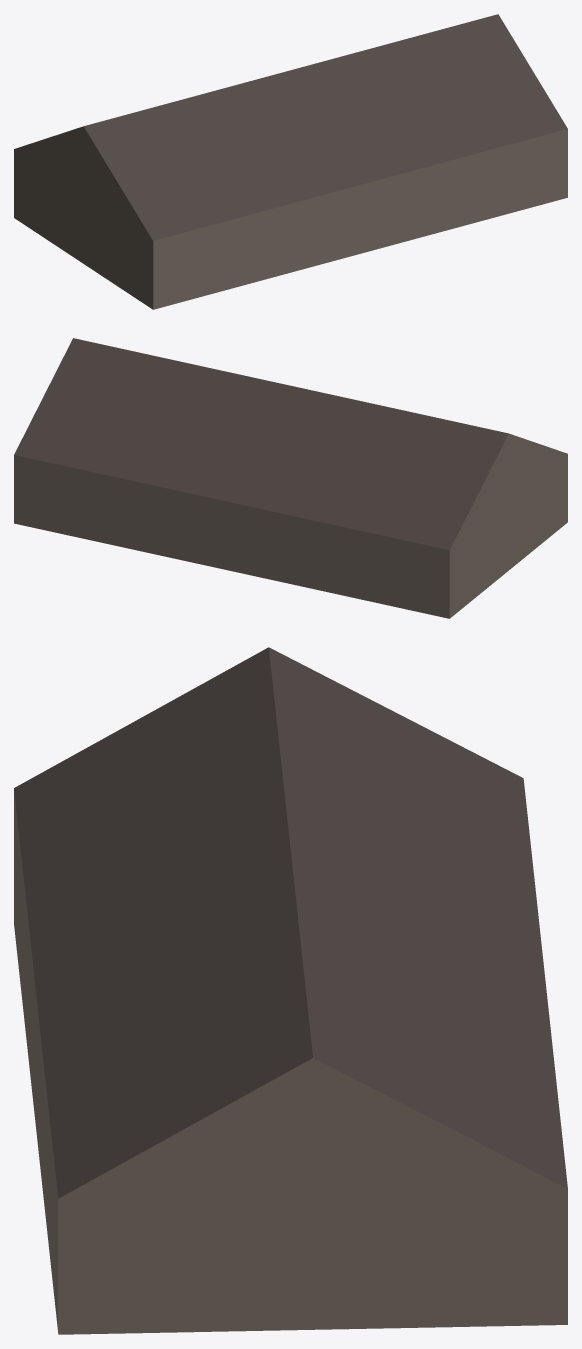
3 renders of one model, top to bottom at view 1: azimuth 30°, elevation 25°; view 2: azimuth 150°, elevation 25°; view 3: azimuth 270°, elevation 25°, orthographic. The views are drawn at different scales.
Parts seen in each view (by area): view 1: HP-w428179909; view 2: HP-w428179909; view 3: HP-w428179909.
Part boxes in pixels (box(x1,y1,x2,y2)): HP-w428179909: box(14, 14, 567, 309); HP-w428179909: box(14, 338, 567, 618); HP-w428179909: box(14, 647, 567, 1334).
Size of the model in its own units: 19.9 by 6 by 11.08.
